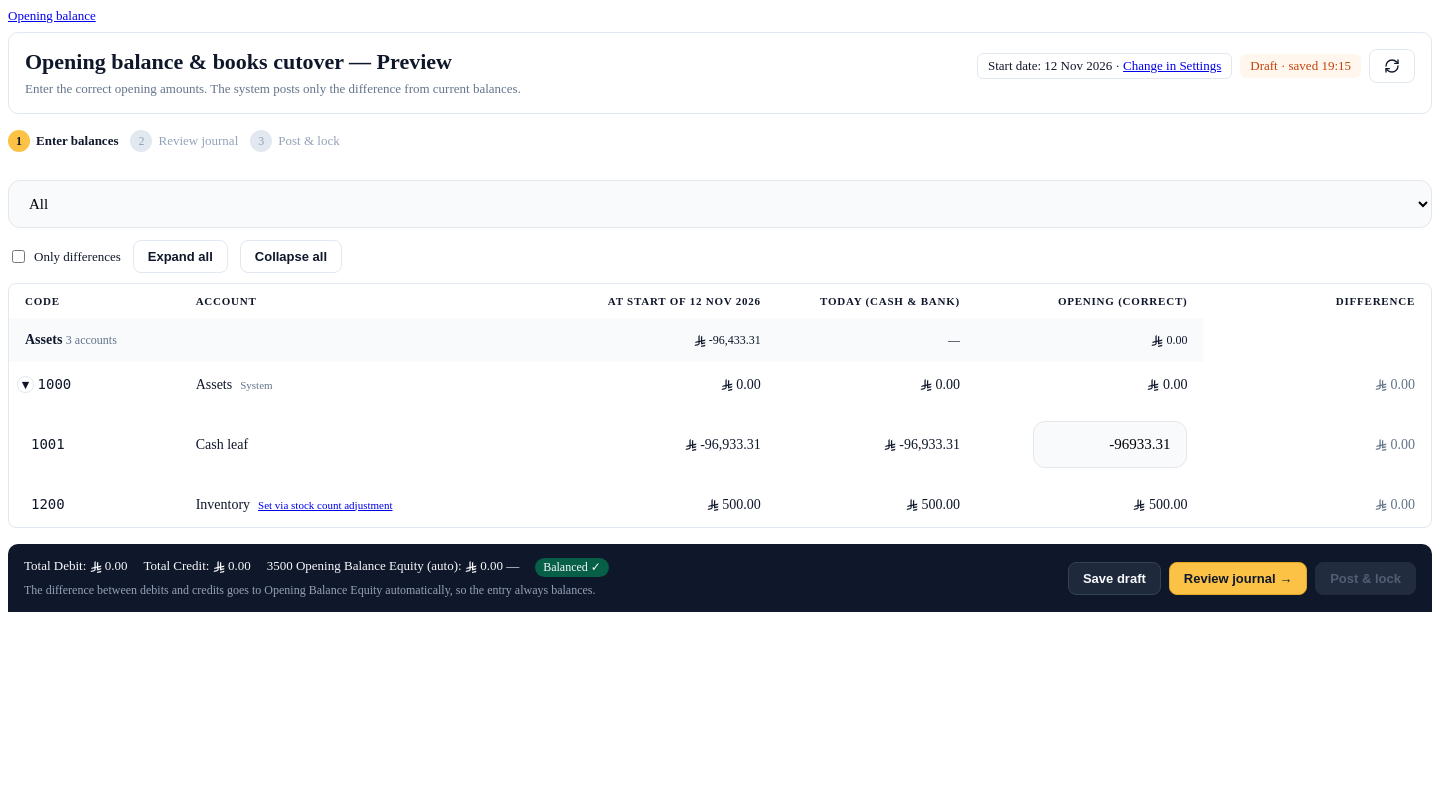
it: WorkshopOpeningBalancePage review popup › 1: popup stays open ≥10s; workspace GET exactly once; preview once
Click the button "Review journal →". click: (1238,578)
box: [1169,562,1307,594]
Wait 10000 ms
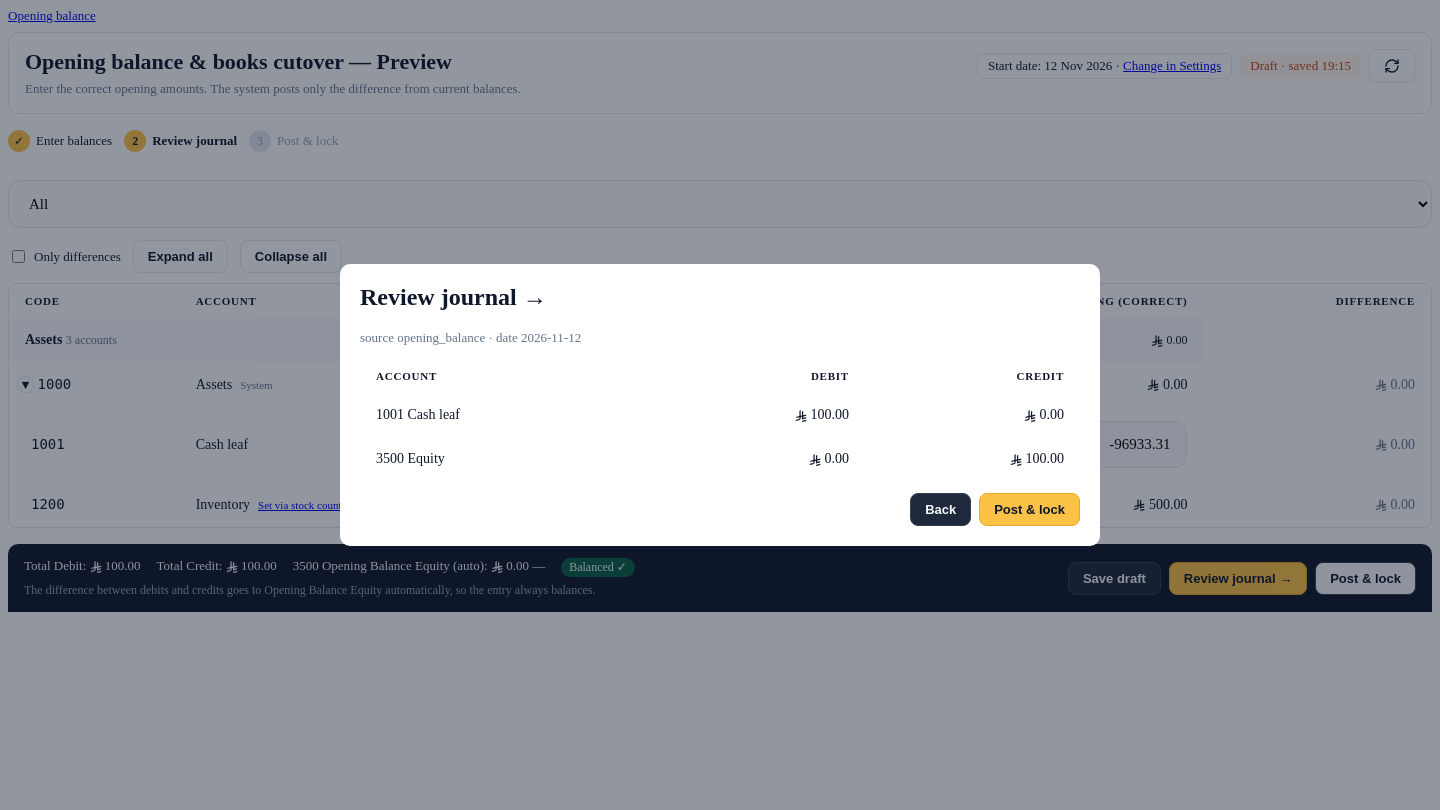
Expected: the dialog is shown
